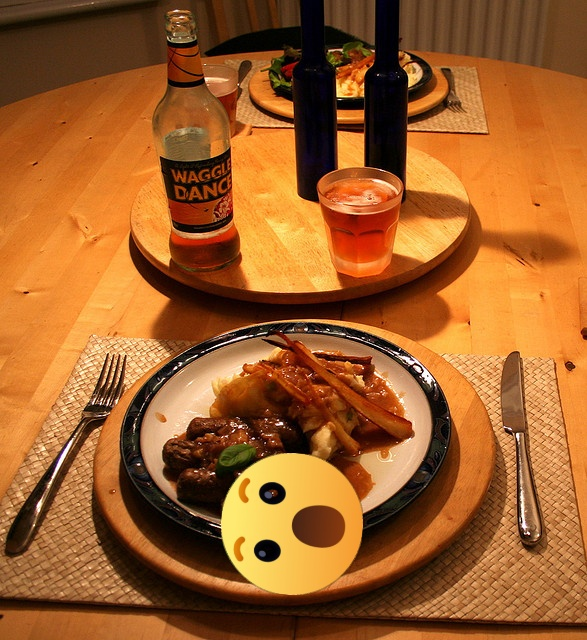wow: (221, 453, 363, 595)
